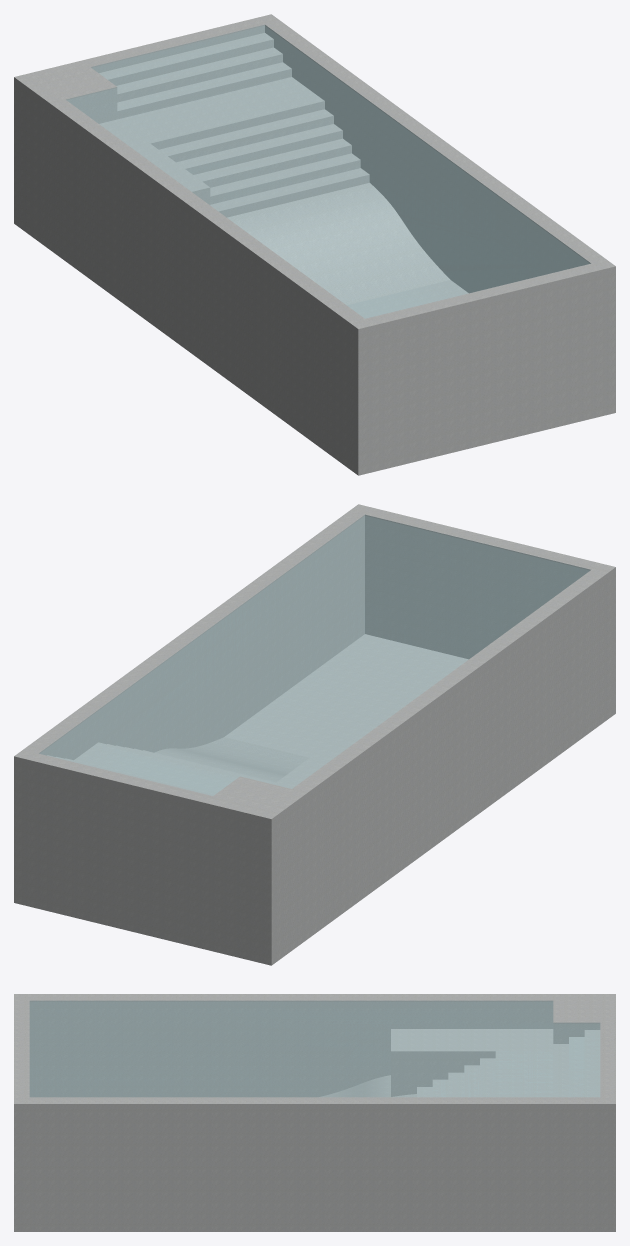
The model's file is pool.glb.
The picture shows the model from 3 angles, top to bottom: view 1: azimuth 30°, elevation 25°; view 2: azimuth 150°, elevation 25°; view 3: azimuth 270°, elevation 25°; orthographic projection. The views are drawn at different scales.
Parts seen in each view (by area): view 1: Object_2, Object_3; view 2: Object_2, Object_3; view 3: Object_2, Object_3.
Boxes of the visible parts, x1,y1,x2,y2 form: Object_2: (14, 14, 615, 475); Object_3: (66, 25, 590, 318); Object_2: (14, 504, 615, 965); Object_3: (39, 515, 589, 795); Object_2: (14, 994, 615, 1231); Object_3: (30, 1001, 599, 1096).
Bounding box in the file's own units: 16.29 × 8.86 × 37.73.
2 materials, 1 textured.
